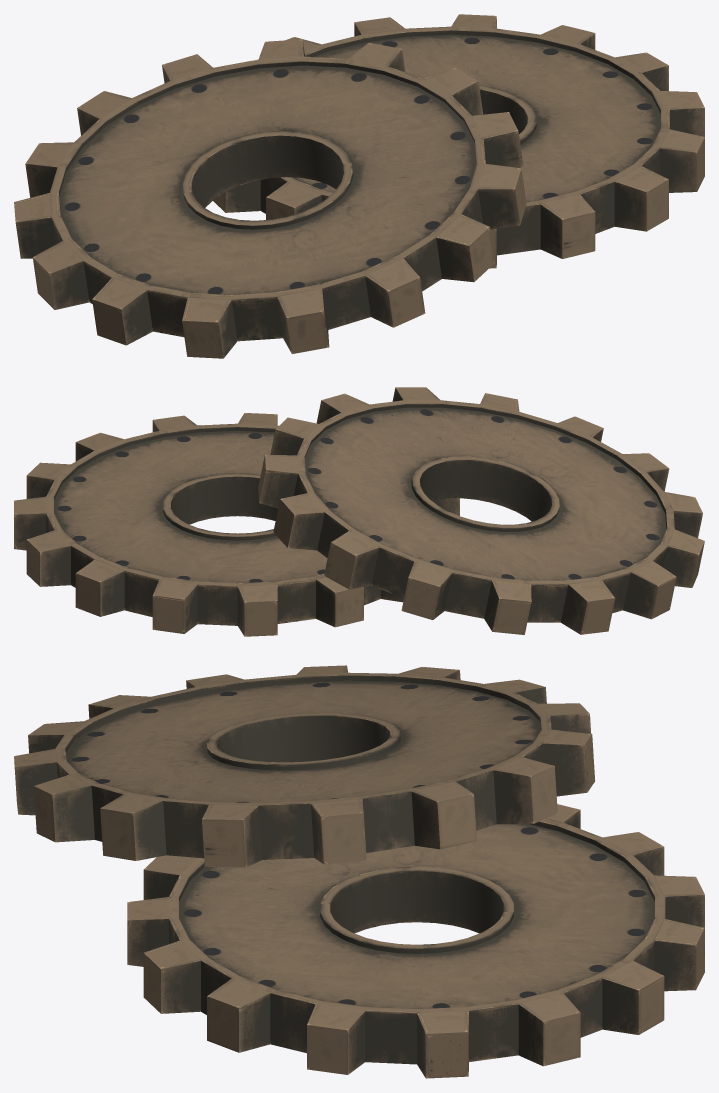
The model's file is gear_low-poly_free.glb.
The picture shows the model from 3 angles, top to bottom: view 1: azimuth 30°, elevation 25°; view 2: azimuth 150°, elevation 25°; view 3: azimuth 270°, elevation 25°; orthographic projection. The views are drawn at different scales.
Visible parts, largest first — view 1: Object002__0, Object001__0; view 2: Object002__0, Object001__0; view 3: Object001__0, Object002__0.
Boxes of the visible parts, <box> form: Object002__0: <box>14,39,526,358</box>; Object001__0: <box>213,14,704,268</box>; Object002__0: <box>258,387,704,634</box>; Object001__0: <box>14,413,459,636</box>; Object001__0: <box>127,804,704,1078</box>; Object002__0: <box>14,665,594,867</box>.
Bounding box in the file's own units: 154 × 26.81 × 120.
Materials: 1 (1 with a texture image).
